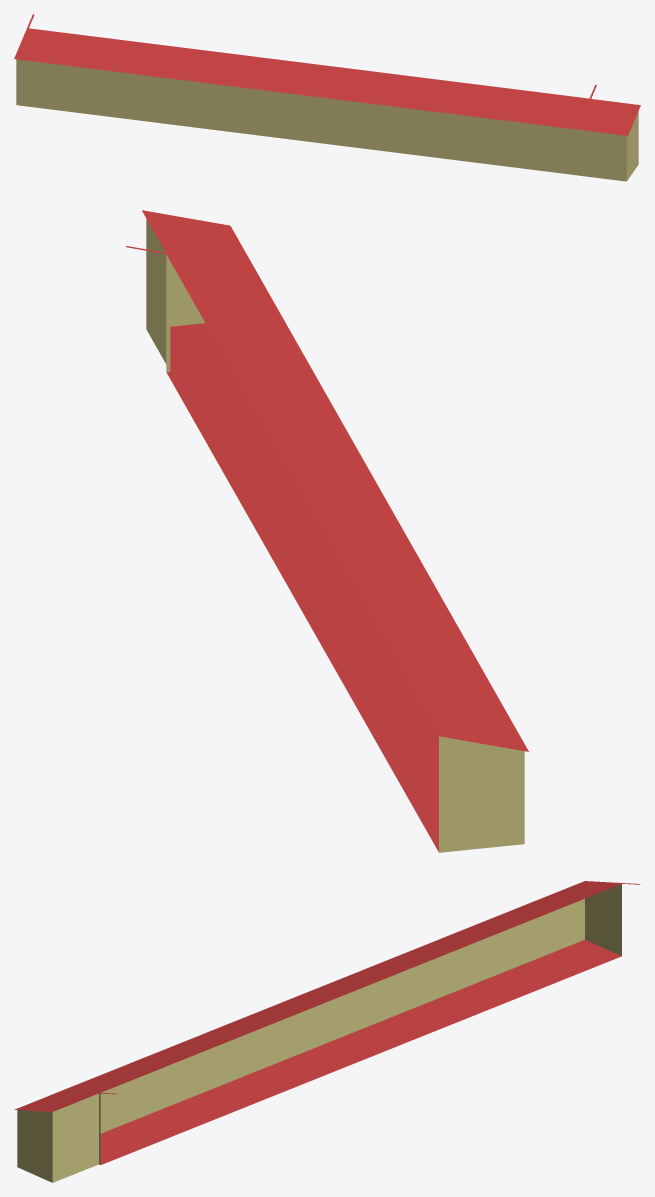
3 views of the same model, one above another, from view 1: azimuth 30°, elevation 25°; view 2: azimuth 150°, elevation 25°; view 3: azimuth 270°, elevation 25° (orthographic). The views are drawn at different scales.
Size of the model in its own units: 61.97 by 66.74 by 9.3.
